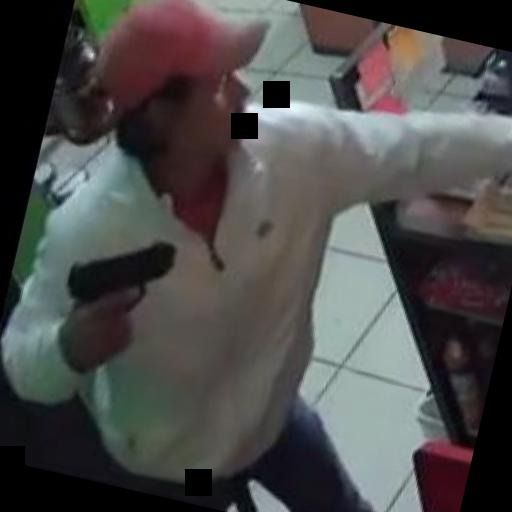Handgun: (47, 218, 180, 368)
